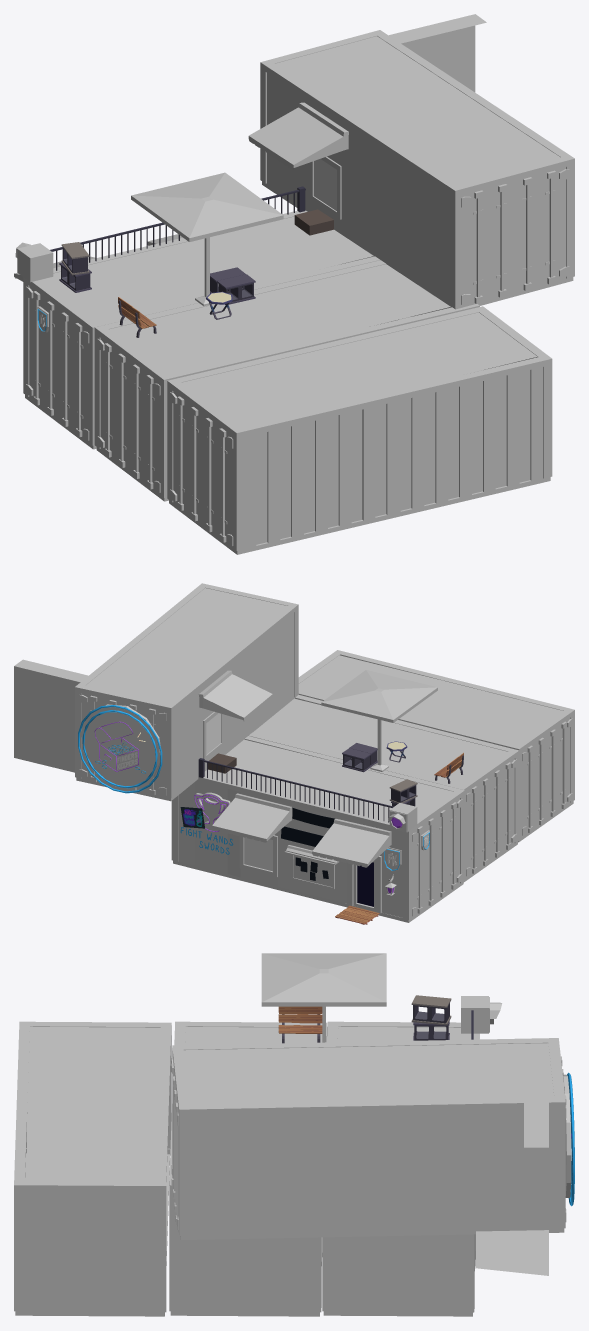
Rendered from CMFindersKeepers.fbx.
3 views of the same model, one above another, from view 1: azimuth 30°, elevation 25°; view 2: azimuth 150°, elevation 25°; view 3: azimuth 270°, elevation 25° (orthographic). The views are drawn at different scales.
Parts seen in each view (by area): view 1: BoxCrate.072, BoxCrate.252, BoxCrate.251, BoxCrate.250, FK_Umbrella.001, Watches_Awning.024, BalconyRailing.038, StudioLight.001, AP_Cinderblock_New.011, Cube.067, AP_Cinderblock_New.010; view 2: BoxCrate.252, BoxCrate.250, BoxCrate.251, BoxCrate.072, FK_NeonSign.008, FK_Umbrella.001, Watches_Awning.023, Watches_Awning.025, Watches_Awning.024, BalconyRailing.038, FK_QuestingBoard.003, FK_NeonSign.007 (+9 smaller); view 3: BoxCrate.252, BoxCrate.072, BoxCrate.251, BoxCrate.250, FK_Umbrella.001, StudioLight.001, FK_Bench.001, AP_Cinderblock_New.010, FK_NeonSign.008, FK_NeonSign.007, AP_Cinderblock_New.012.
Part boxes in pixels (x1,y1,x2,y2): BoxCrate.072: (167,306,552,554); BoxCrate.252: (260,14,574,309); BoxCrate.251: (94,260,479,501); BoxCrate.250: (23,210,401,449); FK_Umbrella.001: (131,172,283,306); Watches_Awning.024: (248,102,348,169); BalconyRailing.038: (50,186,305,270); StudioLight.001: (15,242,53,282); AP_Cinderblock_New.011: (210,267,255,304); Cube.067: (294,209,333,235); AP_Cinderblock_New.010: (61,242,89,275); BoxCrate.252: (14,583,298,801); BoxCrate.250: (171,736,464,922); BoxCrate.251: (248,694,519,882); BoxCrate.072: (298,650,574,842); FK_NeonSign.008: (81,704,160,787); FK_Umbrella.001: (321,670,437,771); Watches_Awning.023: (312,819,391,867); Watches_Awning.025: (212,793,291,842); Watches_Awning.024: (198,670,272,721); BalconyRailing.038: (198,758,393,822); FK_QuestingBoard.003: (284,845,338,889); FK_NeonSign.007: (78,705,162,793); BoxCrate.252: (171,1038,566,1275); BoxCrate.072: (14,1021,171,1316); BoxCrate.251: (169,1021,327,1316); BoxCrate.250: (322,1021,479,1316); FK_Umbrella.001: (261,953,386,1042); StudioLight.001: (461,996,502,1033); FK_Bench.001: (278,1006,322,1043); AP_Cinderblock_New.010: (411,995,451,1025); FK_NeonSign.008: (563,1074,571,1197); FK_NeonSign.007: (567,1072,574,1206); AP_Cinderblock_New.012: (413,1021,449,1040).
Bounding box in the file's own units: 3773 × 1791 × 3515.
